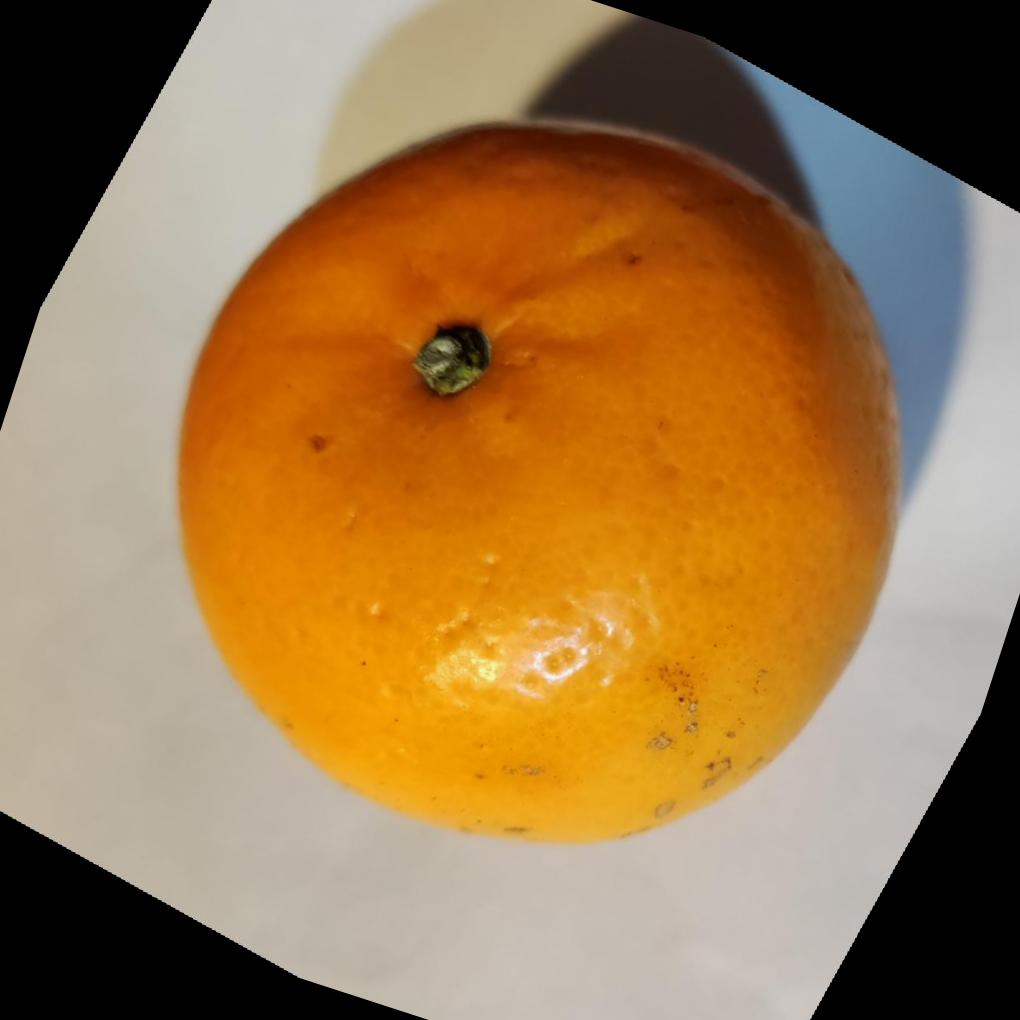FreshGuava: (173, 121, 900, 849)
